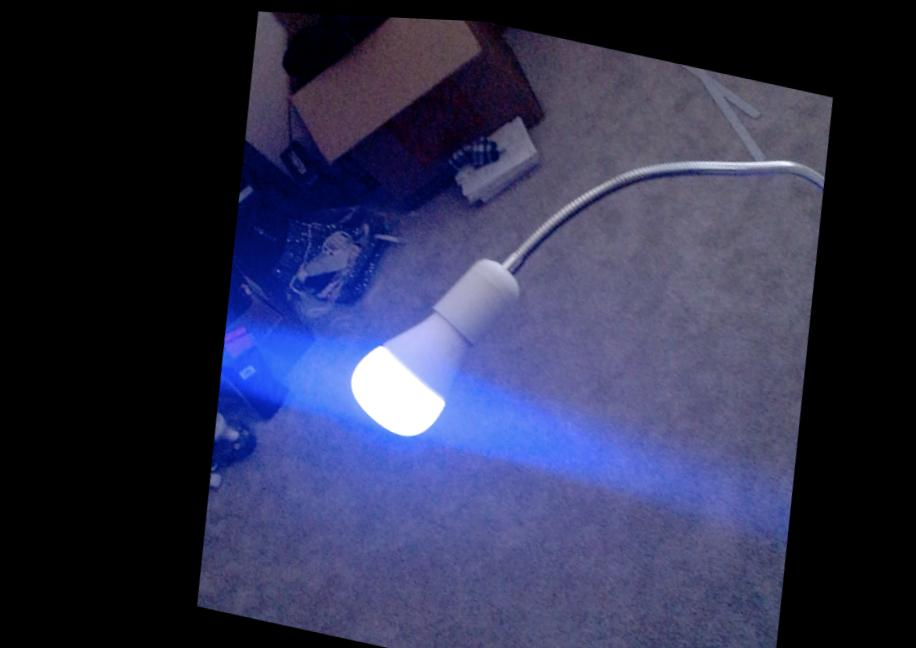TubeLight: (331, 286, 472, 441)
